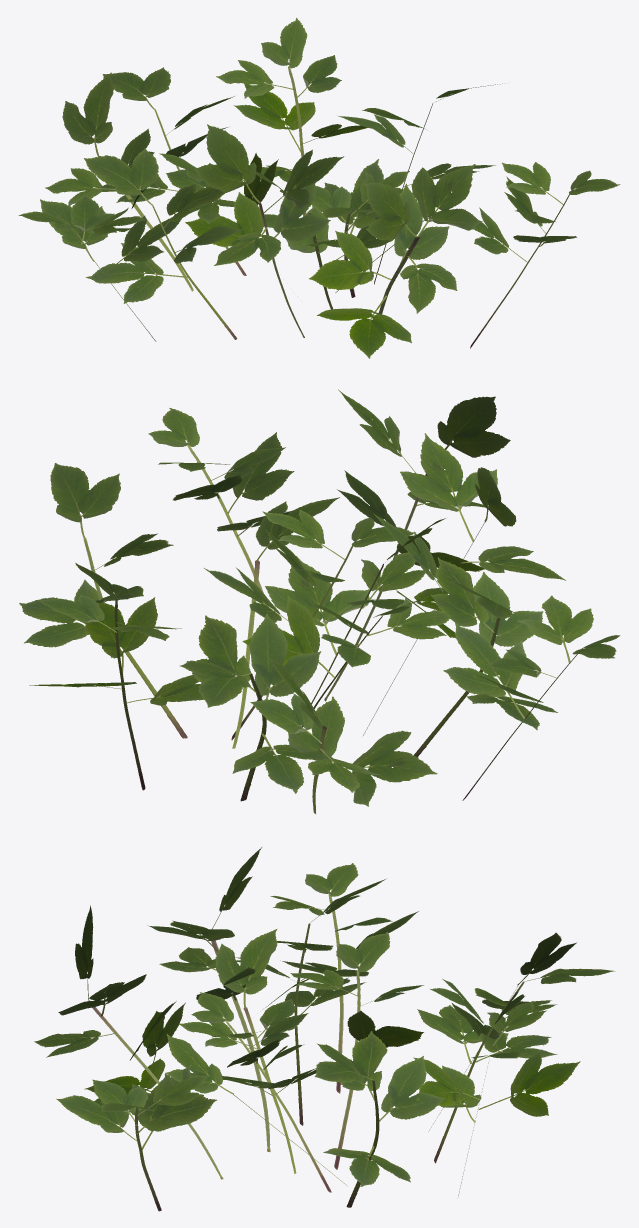
Rendered from SM Broadleaf Shrub.fbx.
3 views of the same model, one above another, from view 1: azimuth 30°, elevation 25°; view 2: azimuth 150°, elevation 25°; view 3: azimuth 270°, elevation 25° (orthographic). The views are drawn at different scales.
Visible parts, largest first — view 1: Broadleaf_Shrub; view 2: Broadleaf_Shrub; view 3: Broadleaf_Shrub.
Boxes of the visible parts, x1,y1,x2,y2 form: Broadleaf_Shrub: (18, 18, 620, 358); Broadleaf_Shrub: (19, 389, 620, 813); Broadleaf_Shrub: (34, 847, 615, 1211).
Size of the model in its own units: 61.64 by 62.69 by 29.49.
